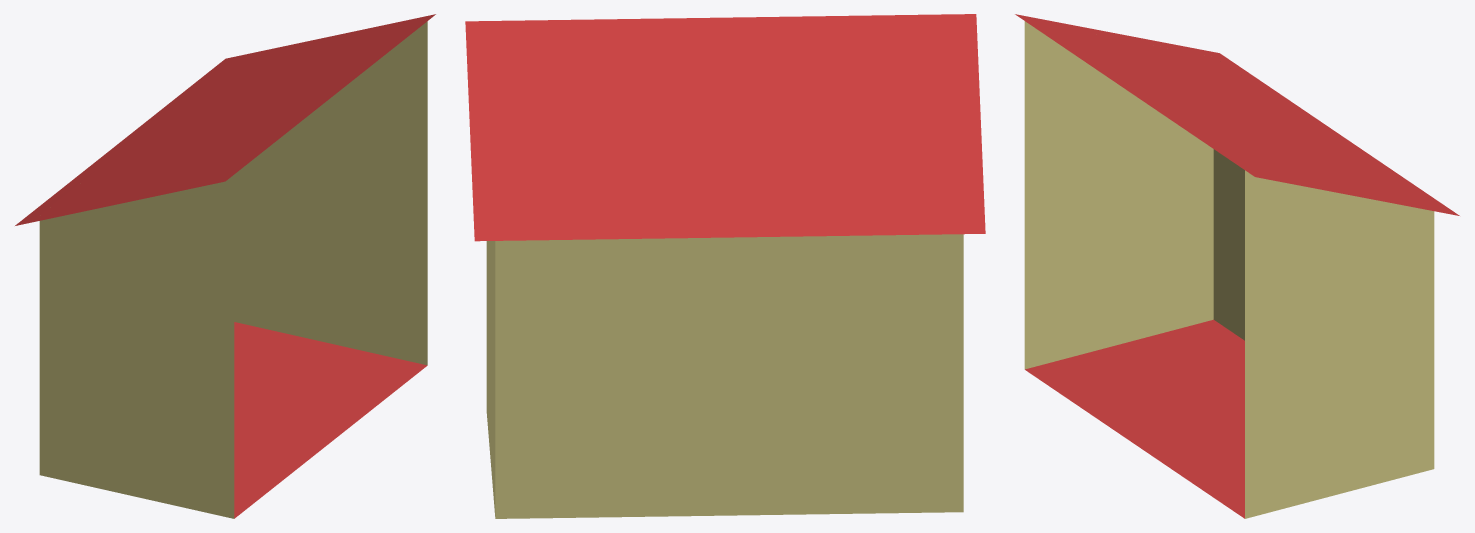
The picture shows the model from 3 angles, left to right: view 1: azimuth 30°, elevation 25°; view 2: azimuth 150°, elevation 25°; view 3: azimuth 270°, elevation 25°; orthographic projection. The views are drawn at different scales.
Size of the model in its own units: 13.49 by 11.71 by 10.1.
